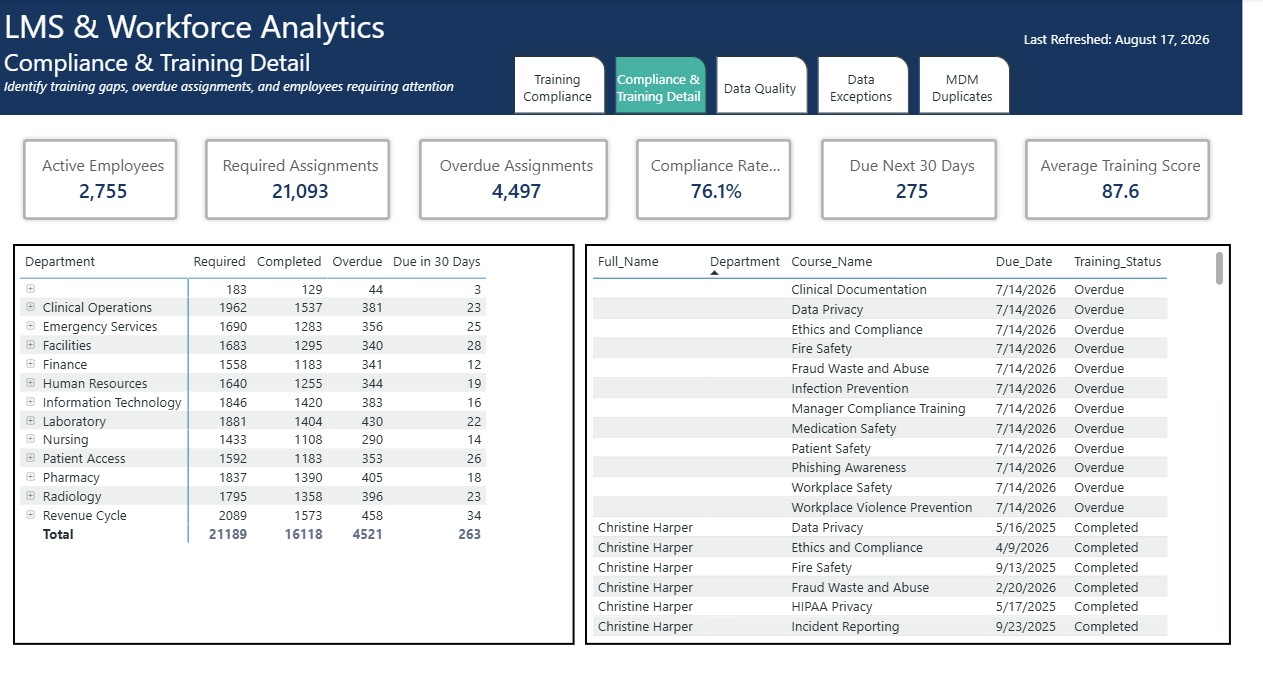

What the dashboard file says about the page in this screenshot:
{"tool":"powerbi","page":{"name":"Compliance & Training Detail","canvas":[1280,720],"ordinal":1},"visuals":[{"type":"shape","box":[0,0,1253.1,117.6],"z":0},{"type":"pageNavigator","box":[519.2,58.8,501,58.8],"z":1000},{"type":"cardVisual","fields":{"Data":["vw_TrainingCompliance.Active Employees"]},"box":[0,117.6,204,130.4],"z":2000},{"type":"cardVisual","fields":{"Data":["vw_TrainingCompliance.Required Assignments"]},"box":[183.9,117.6,235.3,130.4],"z":3000},{"type":"cardVisual","fields":{"Data":["vw_EmployeeTraining.Compliance Rate INnput"]},"box":[618.2,117.6,205.9,130.4],"z":4000},{"type":"cardVisual","fields":{"Data":["vw_TrainingCompliance.Overdue Assignments"]},"box":[399.1,117.6,239.1,130.4],"z":5000},{"type":"textbox","box":[1028.1,26.9,206.5,31.9],"z":6000},{"type":"textbox","box":[0,0,640.6,117.6],"z":7000},{"type":"cardVisual","fields":{"Data":["vw_TrainingCompliance.Due Next 30 Days"]},"box":[803.9,117.6,226.3,130.4],"z":8000},{"type":"cardVisual","fields":{"Data":["vw_TrainingCompliance.Average Training Score"]},"box":[1010.2,117.6,235.3,130.4],"z":9000},{"type":"pivotTable","fields":{"Rows":["vw_EmployeeTraining.Department","vw_EmployeeTraining.Course_Name"],"Values":["vw_EmployeeTraining.Required Assignments Count","vw_EmployeeTraining.Completed Assignments Count","vw_EmployeeTraining.Overdue Assignments Count","vw_EmployeeTraining.Due Next 30 Days Count"]},"box":[14.1,248.1,566.5,404.1],"z":10000},{"type":"tableEx","fields":{"Values":["vw_EmployeeTraining.Full_Name","vw_EmployeeTraining.Department","vw_EmployeeTraining.Course_Name","vw_EmployeeTraining.Due_Date","vw_EmployeeTraining.Training_Status"]},"box":[590.8,248.1,650.9,404.1],"z":11000}]}

Visuals, with their boxes on the page's 1280x720 design canvas (x1, y1, x2, y2). These are canvas units, not pixel positions in the 1263x678 screenshot, which may show the page scaled, cropped or inside an application window:
shape: box(0, 0, 1253, 118)
pageNavigator: box(519, 59, 1020, 118)
cardVisual - vw_TrainingCompliance.Active Employees: box(0, 118, 204, 248)
cardVisual - vw_TrainingCompliance.Required Assignments: box(184, 118, 419, 248)
cardVisual - vw_EmployeeTraining.Compliance Rate INnput: box(618, 118, 824, 248)
cardVisual - vw_TrainingCompliance.Overdue Assignments: box(399, 118, 638, 248)
textbox: box(1028, 27, 1235, 59)
textbox: box(0, 0, 641, 118)
cardVisual - vw_TrainingCompliance.Due Next 30 Days: box(804, 118, 1030, 248)
cardVisual - vw_TrainingCompliance.Average Training Score: box(1010, 118, 1246, 248)
pivotTable - vw_EmployeeTraining.Department x vw_EmployeeTraining.Course_Name: box(14, 248, 581, 652)
tableEx - vw_EmployeeTraining.Full_Name x vw_EmployeeTraining.Department: box(591, 248, 1242, 652)
